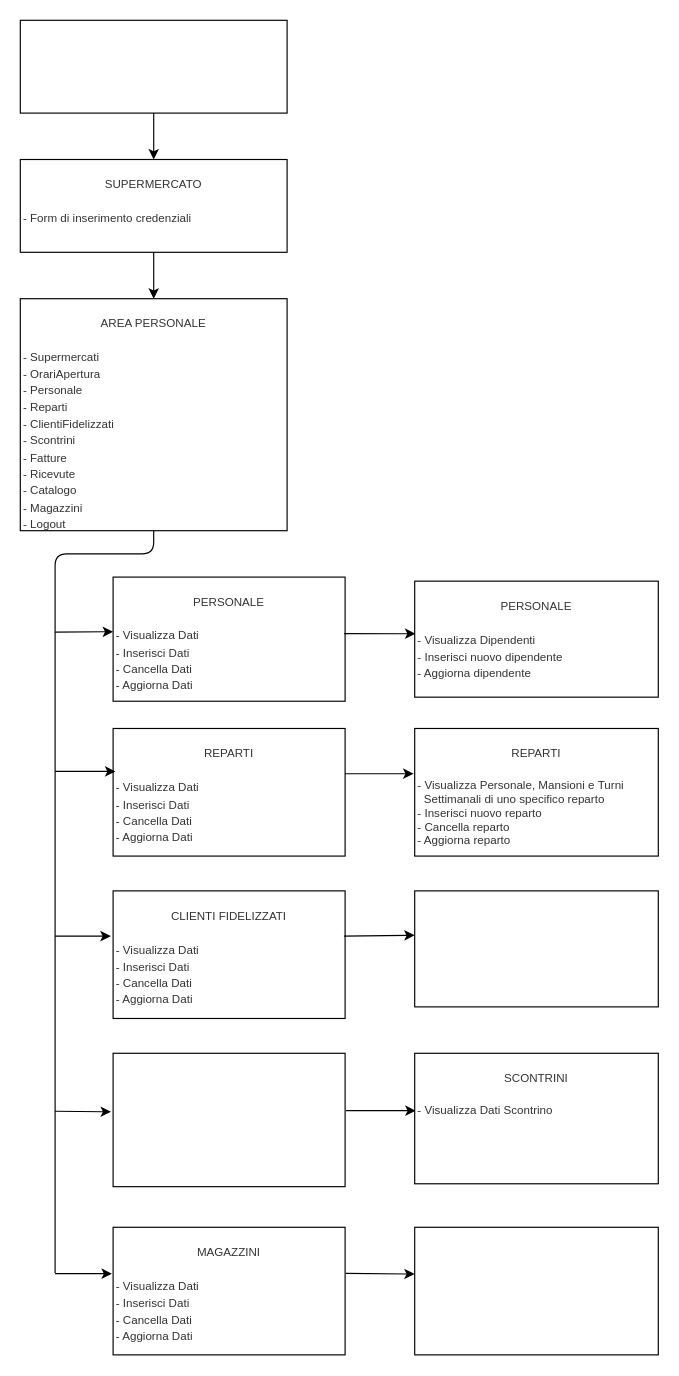
Image size: 679x1376. Some labels were removed from this diagram. The centre of each missing label's shape, as x and y in pixels:
CLIENTI FIDELIZZATI - Visualizza Dati Cliente: pixel 536 948
MAGAZZINI - Visualizza Magazzino: pixel 536 1290
SCONTRINI - Visualizza Dati - Inserisci Dati - Cancella Dati - Aggiorna Dati: pixel 228 1119
SUPERMERCATO - Login: pixel 153 66
